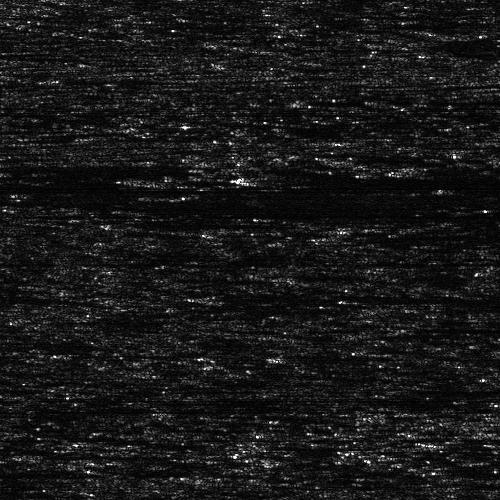object: (270, 351, 311, 362), (231, 176, 284, 181), (367, 325, 420, 330), (193, 293, 224, 300)
shadow: (258, 176, 500, 181), (291, 351, 369, 362), (209, 293, 288, 300), (393, 325, 475, 330)
